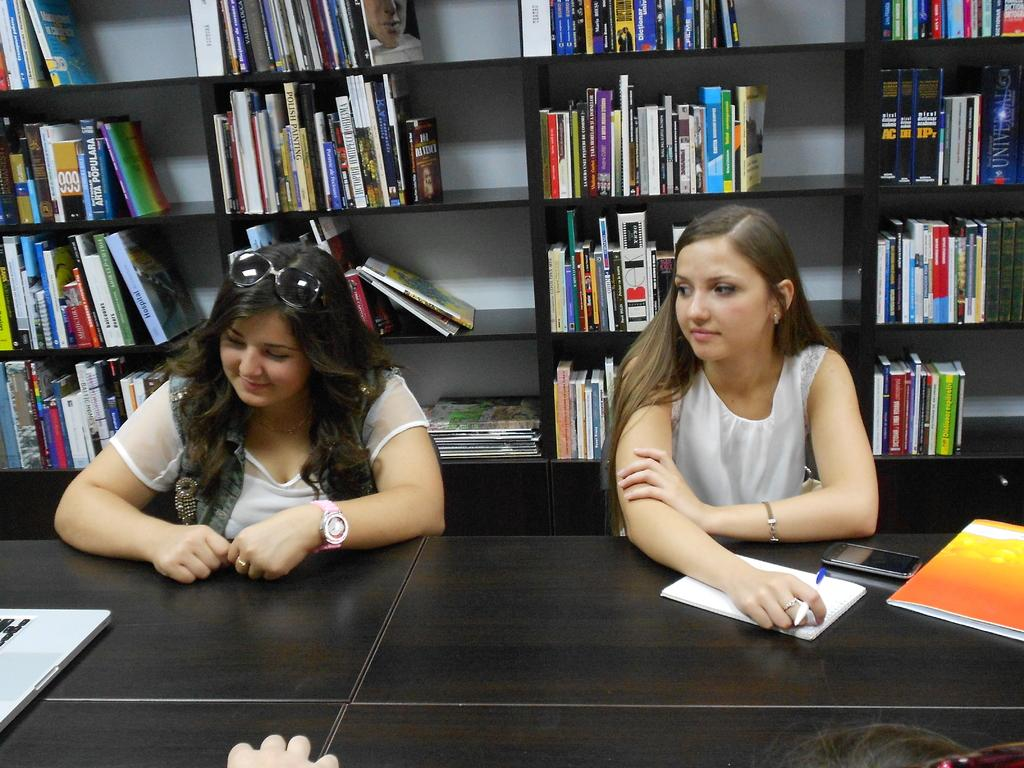Book: (885, 517, 1023, 642)
